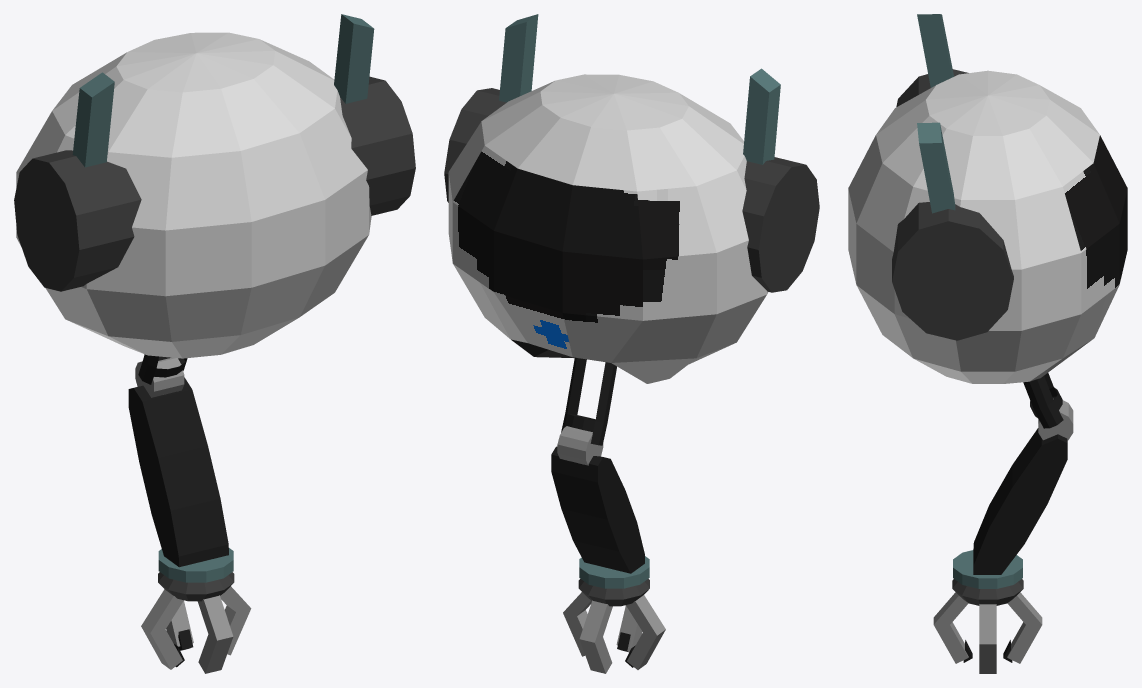
The model's file is BT12 drone.gltf.
3 views of the same model, side by side, from view 1: azimuth 30°, elevation 25°; view 2: azimuth 150°, elevation 25°; view 3: azimuth 270°, elevation 25° (orthographic). The views are drawn at different scales.
Parts seen in each view (by area): view 1: corpo, G2, G1, p4, p2, s2, s4, s3; view 2: corpo, G2, G1, p3, p2, s2, s3, s4; view 3: corpo, G2, G1, s3, s4, p1, p3, p4, s1.
Part boxes in pixels (x1=…): corpo: x1=14, y1=14, x2=415, y2=358; G2: x1=128, y1=377, x2=234, y2=601; G1: x1=135, y1=354, x2=187, y2=397; p4: x1=197, y1=595, x2=233, y2=640; p2: x1=141, y1=589, x2=183, y2=632; s2: x1=141, y1=626, x2=184, y2=669; s4: x1=198, y1=634, x2=233, y2=673; s3: x1=166, y1=601, x2=193, y2=650; corpo: x1=444, y1=14, x2=819, y2=383; G2: x1=551, y1=446, x2=649, y2=606; G1: x1=557, y1=357, x2=616, y2=465; p3: x1=579, y1=600, x2=612, y2=642; p2: x1=626, y1=595, x2=665, y2=635; s2: x1=625, y1=629, x2=665, y2=669; s3: x1=579, y1=637, x2=612, y2=673; s4: x1=616, y1=605, x2=642, y2=652; corpo: x1=848, y1=14, x2=1127, y2=383; G2: x1=952, y1=428, x2=1067, y2=605; G1: x1=1023, y1=373, x2=1073, y2=440; s3: x1=1003, y1=622, x2=1041, y2=663; s4: x1=934, y1=622, x2=972, y2=663; p1: x1=979, y1=604, x2=996, y2=644; p3: x1=1007, y1=592, x2=1042, y2=624; p4: x1=933, y1=592, x2=968, y2=624; s1: x1=979, y1=644, x2=996, y2=673.
Size of the model in its own units: 1.94 by 3.5 by 1.49.
2 materials, 2 textured.
